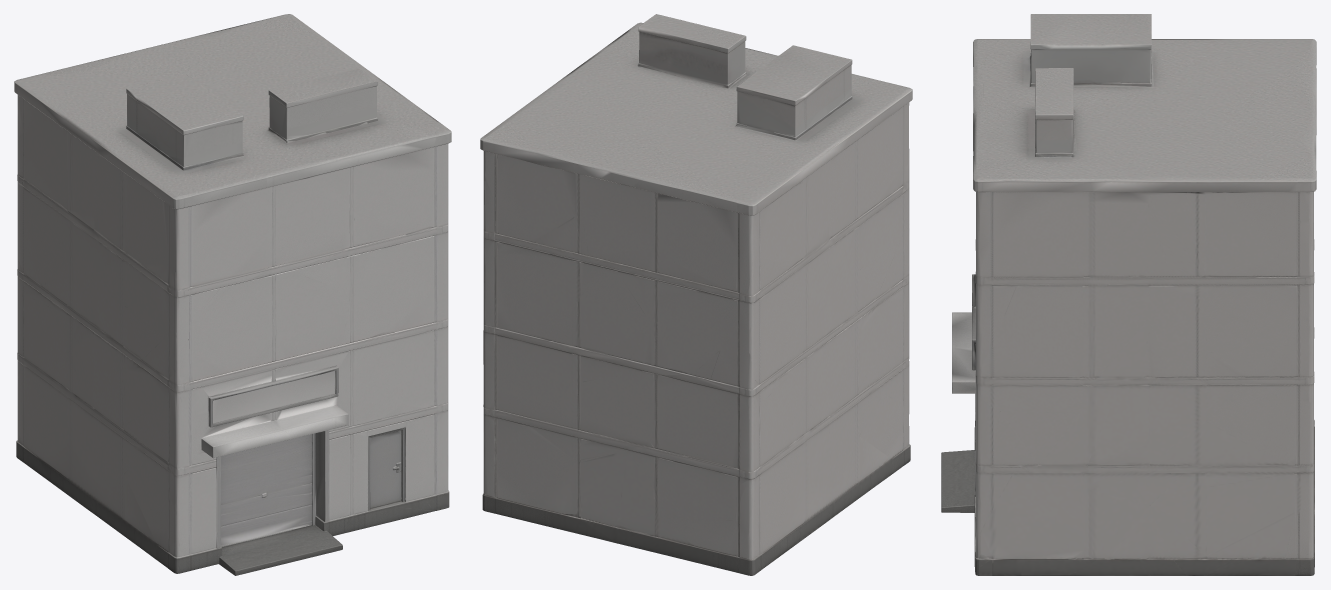
Rendered from warehouse-cold-storage.glb.
3 renders of one model, left to right at view 1: azimuth 30°, elevation 25°; view 2: azimuth 150°, elevation 25°; view 3: azimuth 270°, elevation 25°, orthographic. The views are drawn at different scales.
Bounding box in the file's own units: 8.37 × 12 × 9.29.
1 material, 1 textured.
